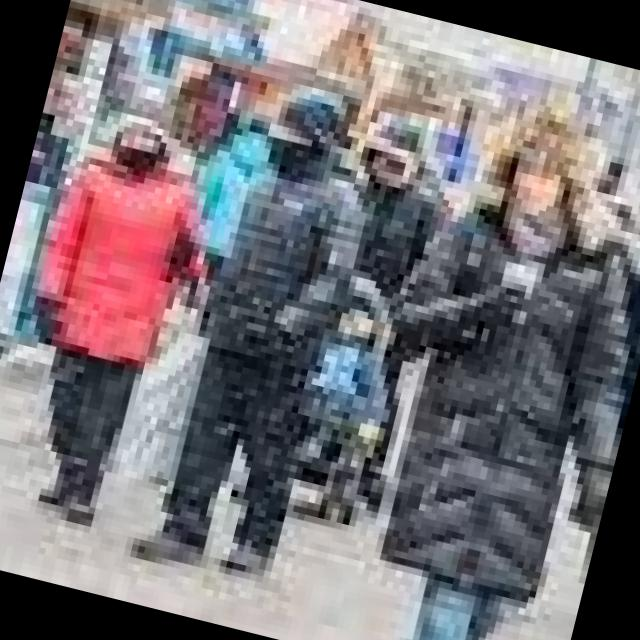Jacket: (348, 180, 640, 619), (13, 146, 224, 382), (185, 149, 383, 378)
